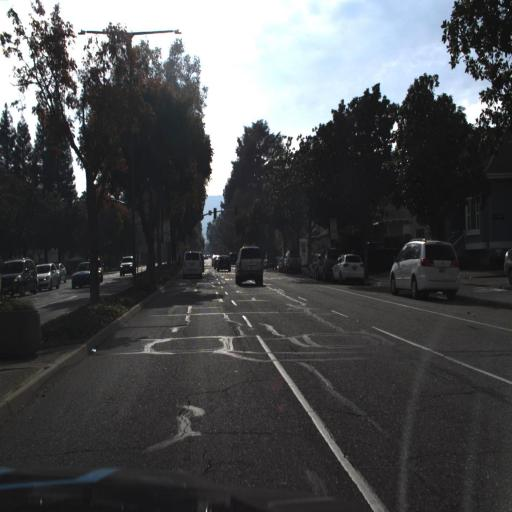car: (390, 236, 464, 298), (2, 260, 40, 300), (233, 242, 265, 285), (70, 260, 108, 290), (331, 256, 368, 283), (316, 245, 341, 283), (180, 249, 202, 282), (282, 246, 302, 275), (36, 264, 58, 289), (120, 252, 136, 277), (214, 253, 232, 274), (228, 250, 240, 265)
